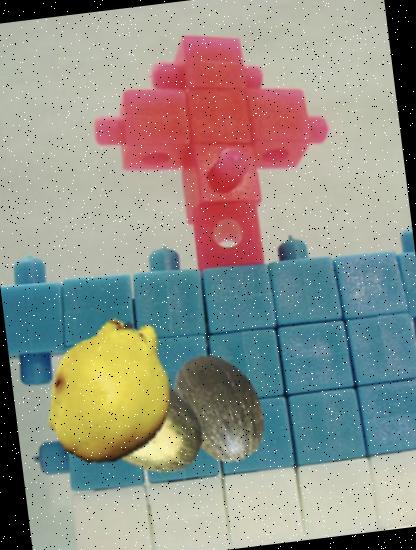Melon: (70, 350, 214, 494), (157, 344, 285, 472)
Quince: (30, 308, 197, 475)
